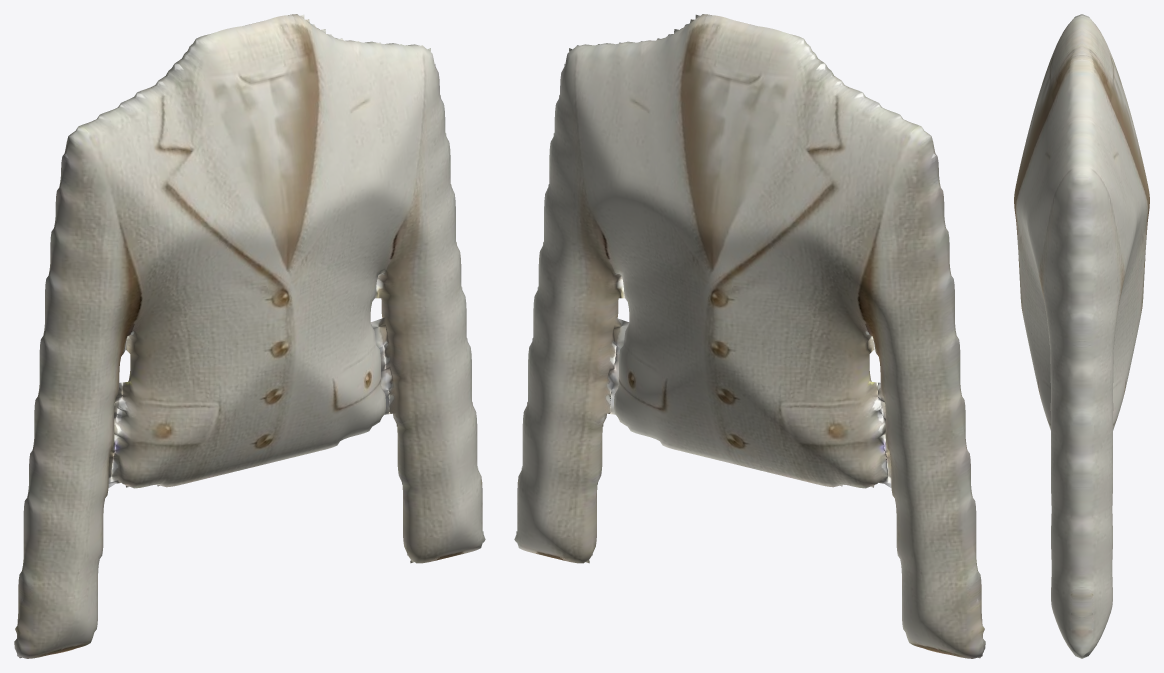
The model's file is prod-ae-ivory-tweed-blazer.glb.
3 views of the same model, side by side, from view 1: azimuth 30°, elevation 25°; view 2: azimuth 150°, elevation 25°; view 3: azimuth 270°, elevation 25° (orthographic). The views are drawn at different scales.
Parts seen in each view (by area): view 1: prod-ae-ivory-tweed-blazer_standalone; view 2: prod-ae-ivory-tweed-blazer_standalone; view 3: prod-ae-ivory-tweed-blazer_standalone.
Boxes of the visible parts, box(x1,y1,x2,y2) form: prod-ae-ivory-tweed-blazer_standalone: box(14, 14, 485, 658); prod-ae-ivory-tweed-blazer_standalone: box(514, 14, 985, 658); prod-ae-ivory-tweed-blazer_standalone: box(1014, 14, 1149, 658).
Size of the model in its own units: 0.4503 by 0.5383 by 0.1257.
Materials: 1 (1 with a texture image).
